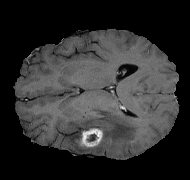Edema: (18, 99, 139, 156)
EnhancingTumors: (76, 126, 103, 147)
Necrosis: (77, 129, 99, 144)
